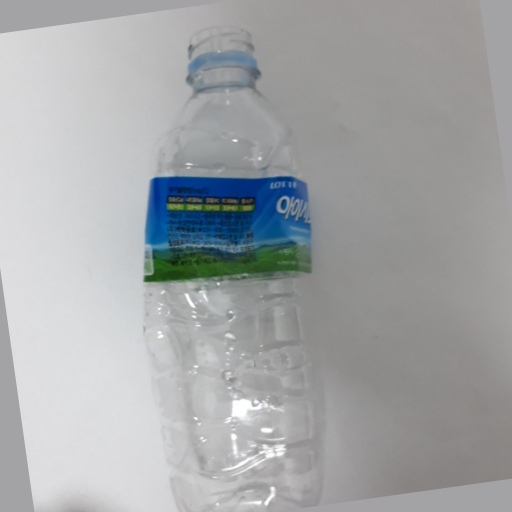Plastic_0: (128, 22, 336, 512)
